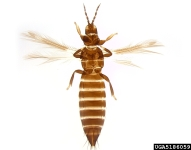Thrips: (26, 2, 149, 147)
